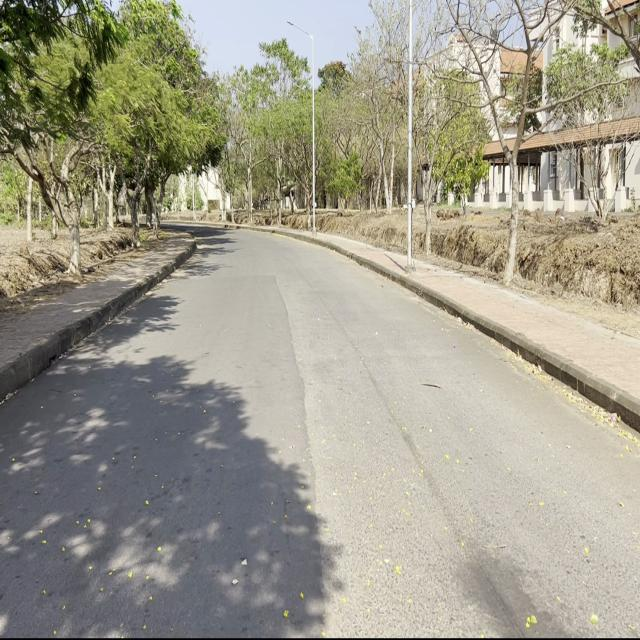Road: (0, 226, 640, 638)
